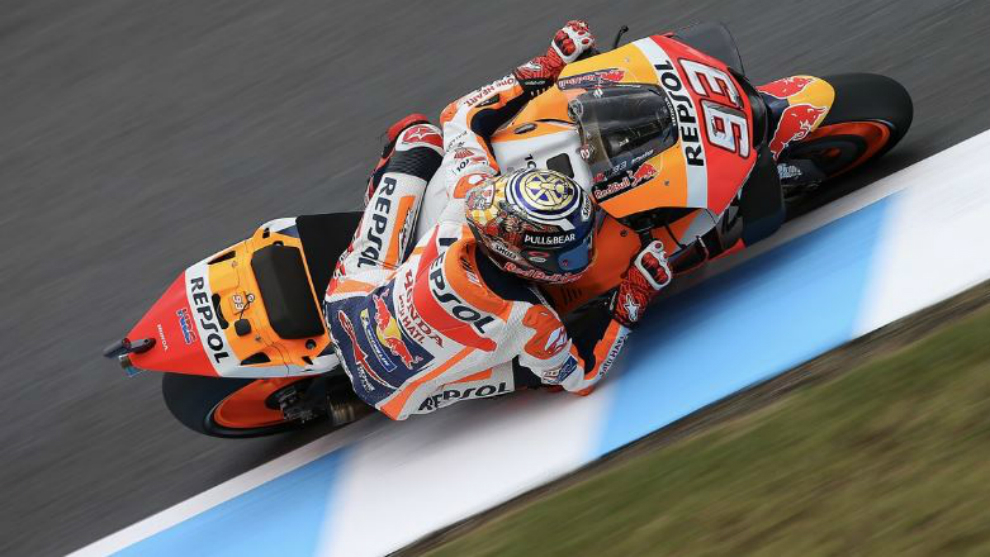helmet: (466, 164, 597, 287)
